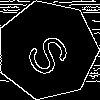S: (22, 24, 81, 80)
